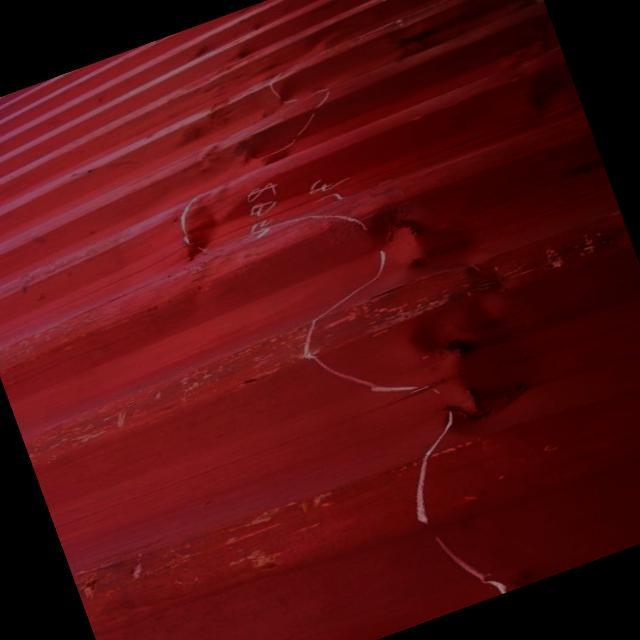dent: (328, 160, 591, 474)
